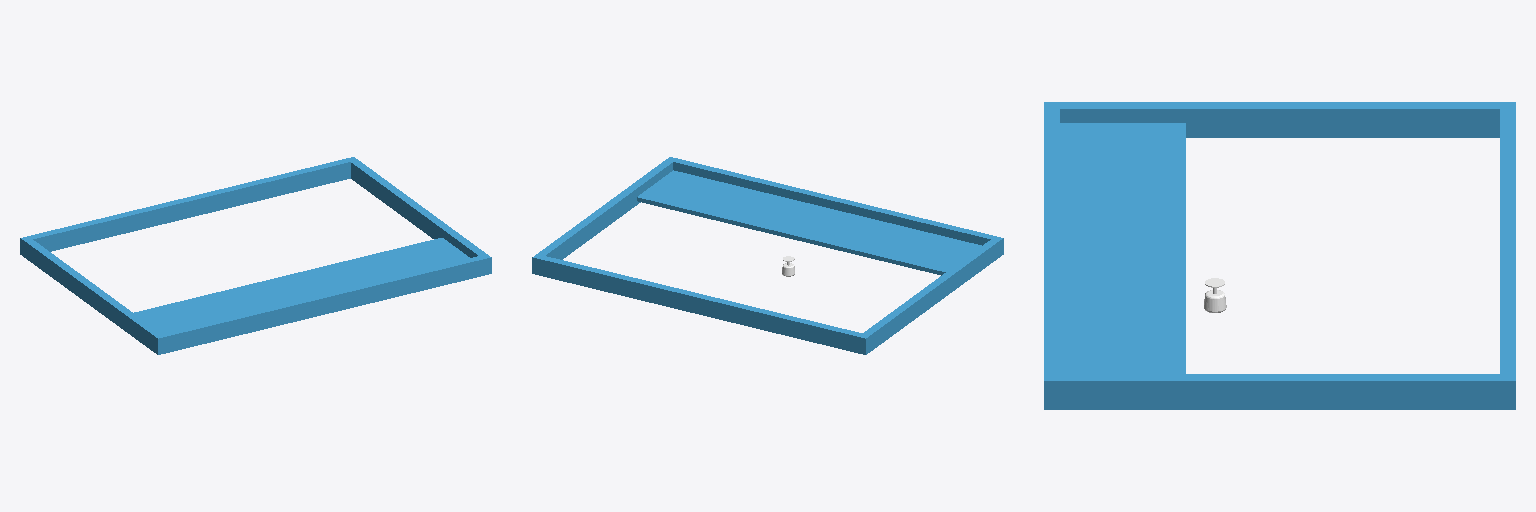
robot.urdf — right-pull-door:
<?xml version="1.0" ?>
<robot name="right-pull-door">
	<link name="base"/>
	<link name="link_0">
		<visual name="out-frame">
			<origin xyz="0 0 0"/>
			<geometry>
				<mesh filename="texture_dae/frame.dae" scale="0.8470240256493148 0.8470240256493148 0.8470240256493148"/>
			</geometry>
		</visual>
		<collision>
			<origin xyz="0 0 0"/>
			<geometry>
				<mesh filename="texture_dae/frame.dae" scale="0.8470240256493148 0.8470240256493148 0.8470240256493148"/>
			</geometry>
		</collision>
	</link>
	<joint name="joint_0" type="fixed">
		<origin rpy="1.570796326794897 0 -1.570796326794897" xyz="0 0 0"/>
		<child link="link_0"/>
		<parent link="base"/>
	</joint>
	<link name="link_1">
		<visual name="surf-board">
			<origin xyz="0.432260391364228 -0.8624285970660264 0"/>
			<geometry>
				<mesh filename="texture_dae/board.dae" scale="0.8470240256493148 0.8470240256493148 0.8470240256493148"/>
			</geometry>
		</visual>
		<collision>
			<origin xyz="0.432260391364228 -0.8624285970660264 0"/>
			<geometry>
				<mesh filename="texture_dae/board.dae" scale="0.8470240256493148 0.8470240256493148 0.8470240256493148"/>
			</geometry>
		</collision>
	</link>
	<joint name="joint_1" type="revolute">
		<origin xyz="-0.432260391364228 0.8624285970660264 0"/>
		<axis xyz="0 -1 0"/>
		<child link="link_1"/>
		<parent link="link_0"/>
		<limit lower="0" upper="1.5079644737231006"/>
	</joint>
	<link name="link_2">
		<visual name="handle">
			<origin xyz="0 0 0"/>
			<geometry>
				<mesh filename="texture_dae/9962002.dae" scale="1.4680144329164968 1.4680144329164968 1.4680144329164968"/>
			</geometry>
		</visual>
		<collision>
			<origin xyz="0 0 0"/>
			<geometry>
				<mesh filename="texture_dae/9962002.dae" scale="1.4680144329164968 1.4680144329164968 1.4680144329164968"/>
			</geometry>
		</collision>
	</link>
	<joint name="joint_2" type="revolute">
		<origin xyz="0.7805763996594712 -0.9211527993189421 0.01084095413439524"/>
		<child link="link_2"/>
		<parent link="link_1"/>
		<axis xyz="0 0 1"/>
		<limit lower="0" upper="1.5079644737231006"/>
	</joint>
</robot>

--- Render facts (derived) ---
The picture shows the robot from 3 angles, left to right: view 1: azimuth 30°, elevation 25°; view 2: azimuth 150°, elevation 25°; view 3: azimuth 270°, elevation 25°; orthographic projection.
Robot: right-pull-door — 4 links, 3 joints (2 revolute, 1 fixed); root link base; default pose: all joints at 0.
Visible links, largest first — view 1: link_0; view 2: link_0; view 3: link_0, link_2.
Boxes of the visible links, x1,y1,x2,y2 form: link_0: (20, 157, 491, 354); link_0: (532, 157, 1003, 354); link_0: (1044, 102, 1515, 409); link_2: (1204, 278, 1226, 312).
Size in the robot's own frame: 1.81 by 1.29 by 0.2082 metres.
Meshes: 3 distinct files referenced, 2 mesh visuals loaded (2 Collada DAE); not drawn: 1 (reference not matched to a file when rendering).
